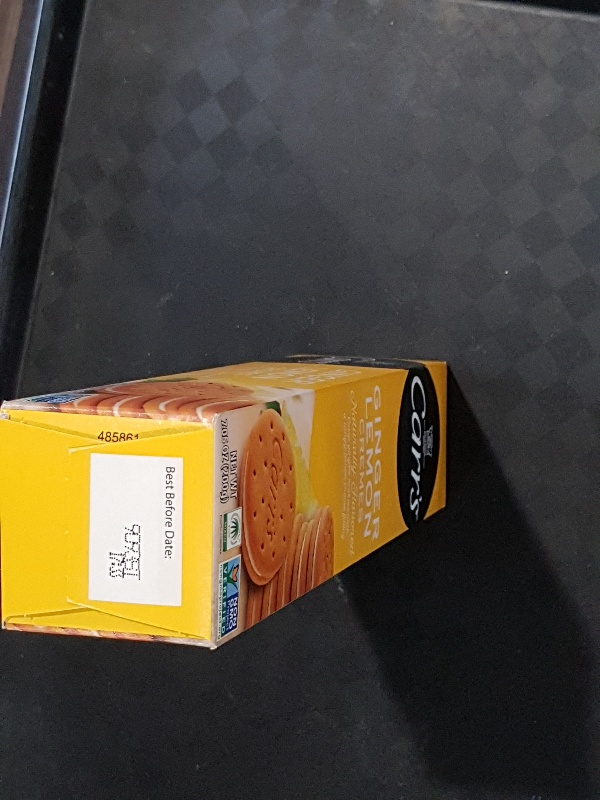Carr's Ginger Lemon Cremes: (1, 352, 447, 649)
